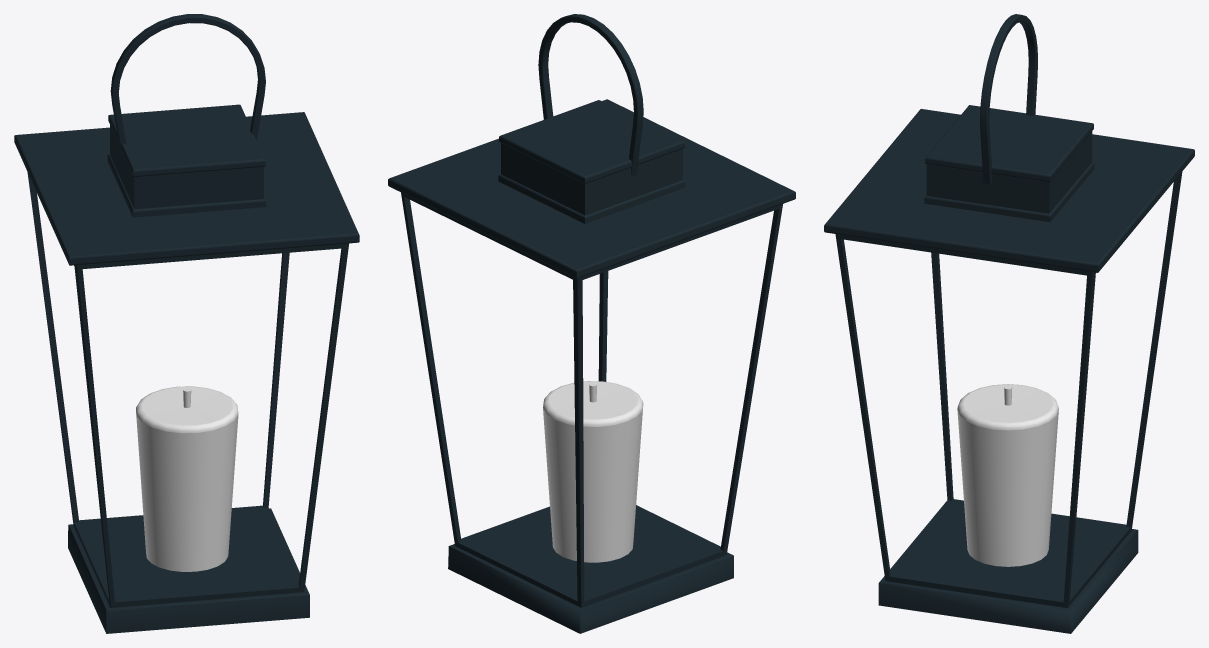
The model's file is Lantern.fbx.
3 renders of one model, left to right at view 1: azimuth 30°, elevation 25°; view 2: azimuth 150°, elevation 25°; view 3: azimuth 270°, elevation 25°, orthographic. The views are drawn at different scales.
Parts seen in each view (by area): view 1: Cube, Candle; view 2: Cube, Candle; view 3: Cube, Candle.
Boxes of the visible parts, x1=… form: Cube: x1=14, y1=14, x2=359, y2=633; Candle: x1=136, y1=386, x2=238, y2=571; Cube: x1=388, y1=14, x2=795, y2=633; Candle: x1=543, y1=381, x2=643, y2=562; Cube: x1=824, y1=14, x2=1194, y2=633; Candle: x1=957, y1=384, x2=1058, y2=566.
Bounding box in the file's own units: 33.45 × 55.55 × 33.45.
